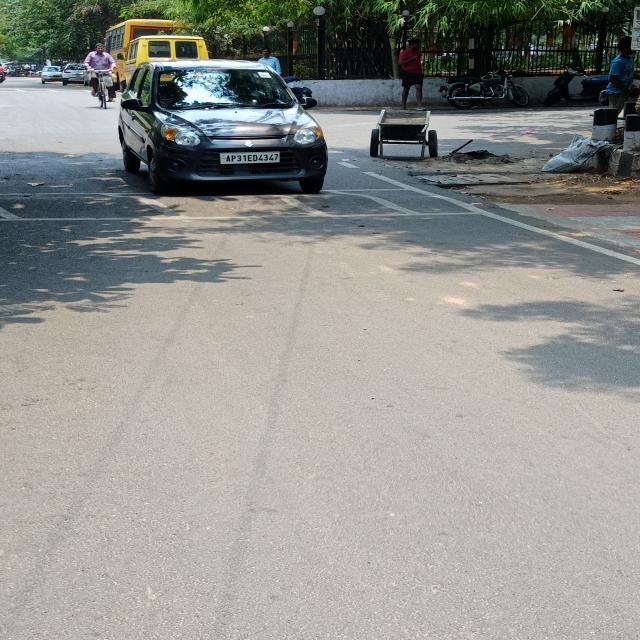bus: (101, 17, 205, 92), (125, 35, 210, 88)
car: (117, 59, 335, 199), (62, 62, 92, 85), (40, 64, 65, 86)
